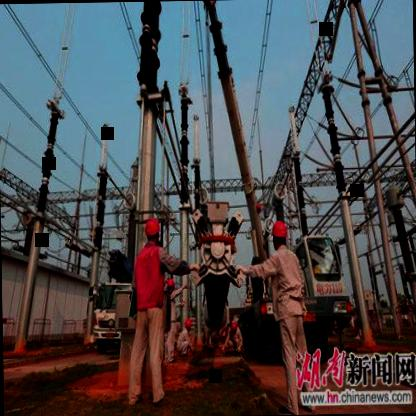helmet: (141, 216, 164, 250), (269, 217, 288, 253), (184, 316, 192, 333)
